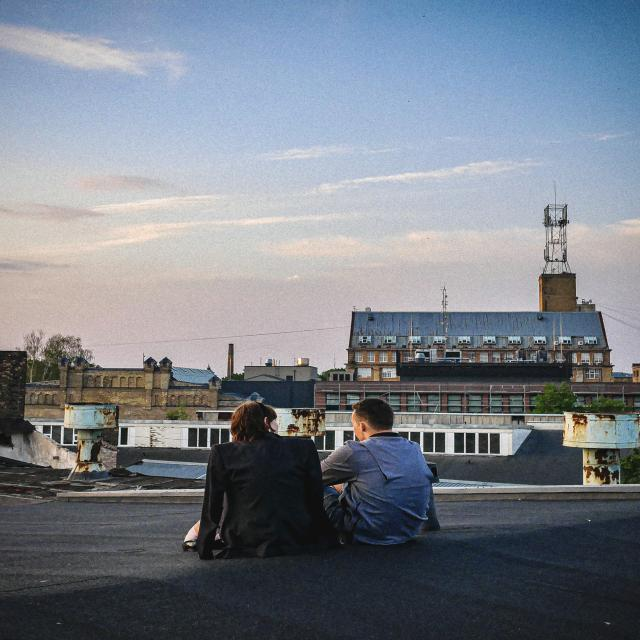adult: (198, 402, 322, 560), (322, 398, 432, 544)
